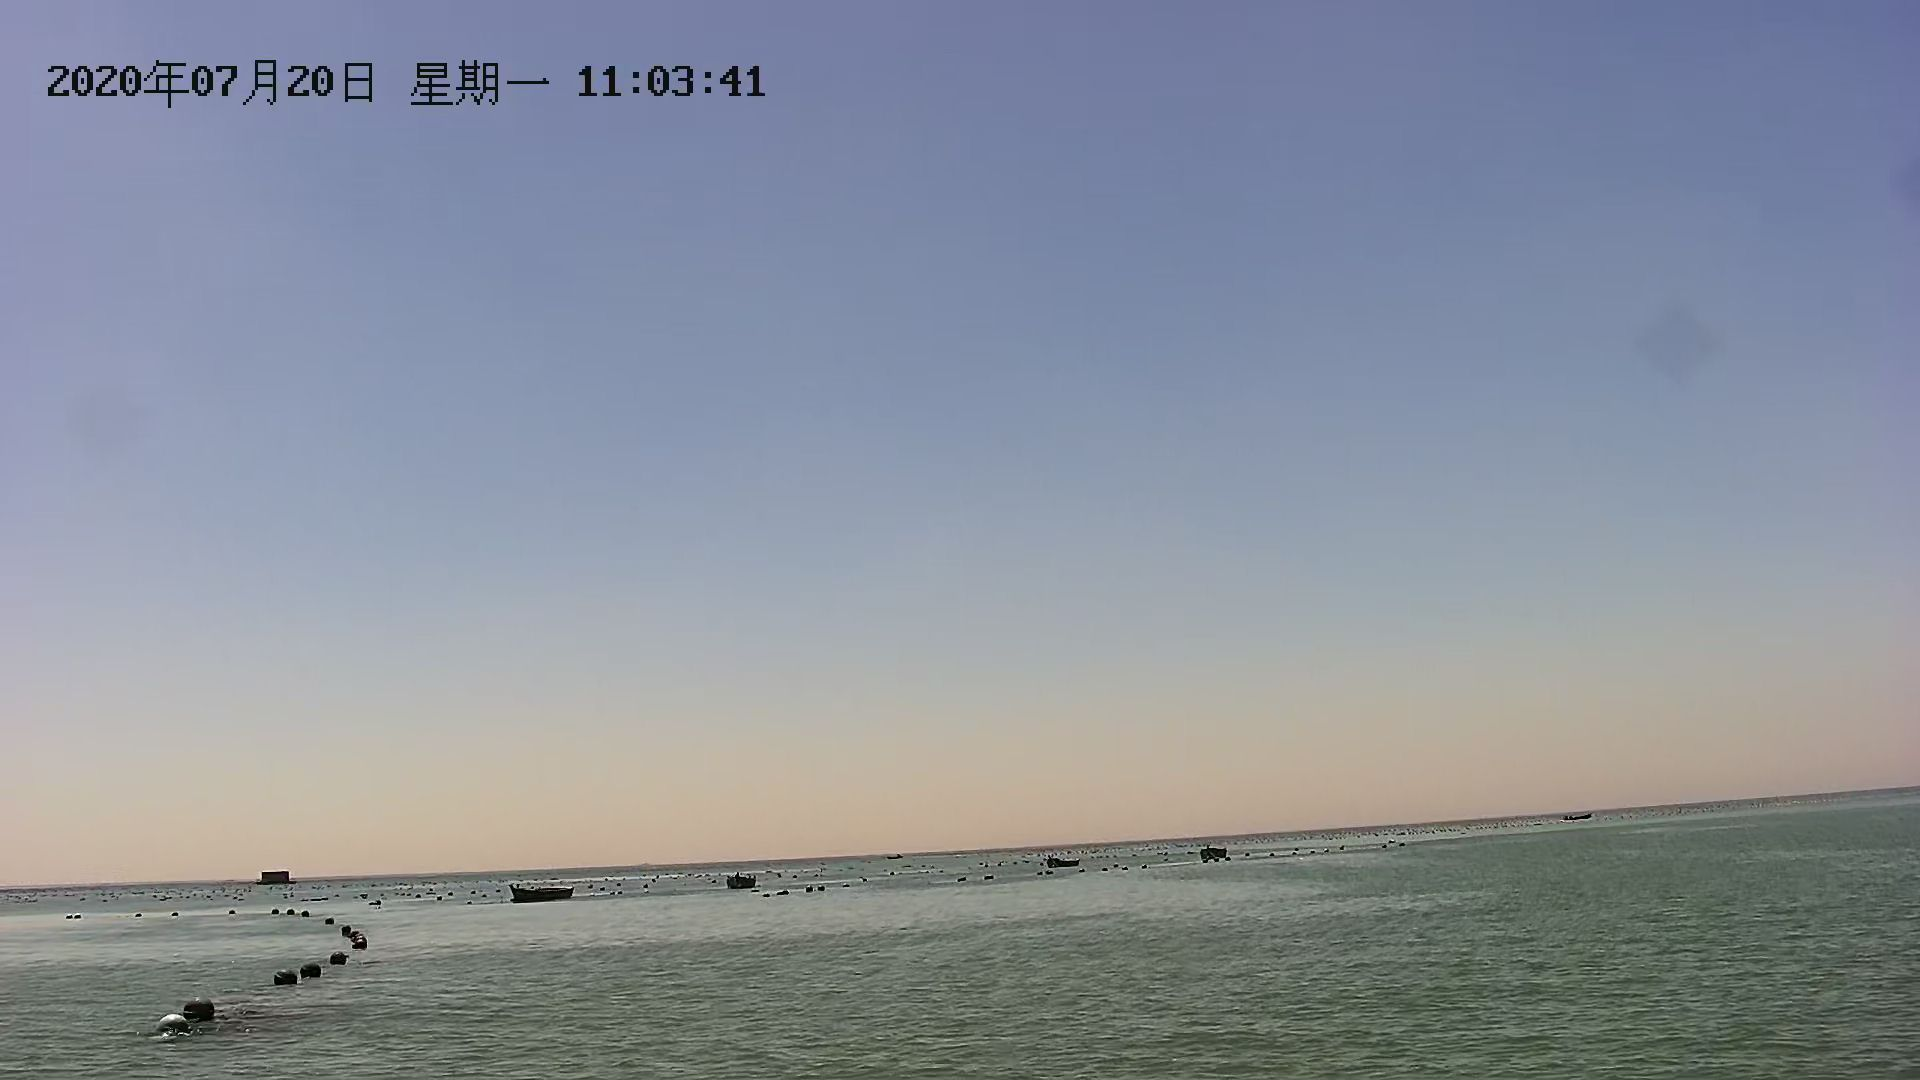ball: (173, 993, 219, 1025), (290, 955, 328, 986), (149, 1013, 190, 1040), (272, 961, 301, 996), (320, 949, 359, 973)
boat: (502, 880, 578, 906), (1038, 849, 1087, 874), (1192, 840, 1238, 862), (723, 869, 760, 894), (1559, 806, 1597, 829)
platform: (249, 868, 305, 891)
